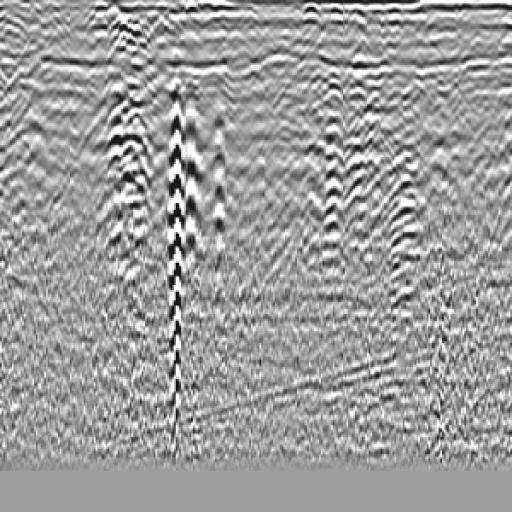metalic: (89, 18, 170, 186)
